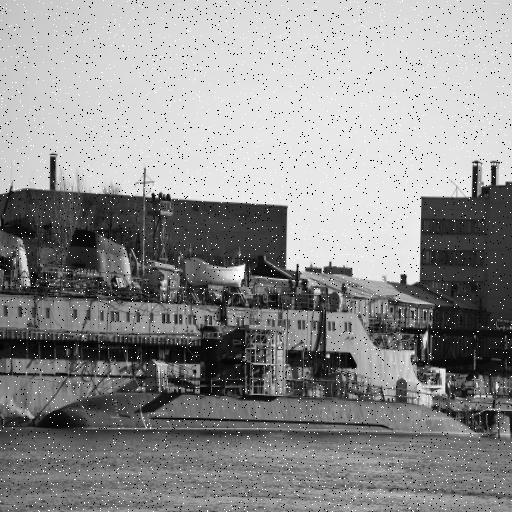submarine: (35, 325, 512, 430)
